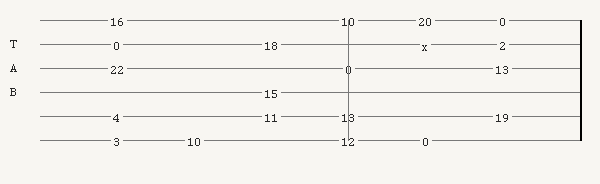0: (113, 38, 124, 50), (345, 62, 356, 74), (422, 134, 433, 146), (499, 14, 510, 26)
10: (187, 134, 205, 146), (341, 14, 359, 26)
11: (264, 110, 282, 122)
12: (341, 134, 359, 146)
13: (341, 110, 359, 122), (495, 62, 513, 74)
15: (264, 86, 282, 98)
16: (110, 14, 128, 26)
18: (264, 38, 282, 50)
19: (495, 110, 513, 122)
2: (499, 38, 510, 50)
20: (418, 14, 436, 26)
22: (110, 62, 128, 74)
3: (113, 134, 124, 146)
4: (113, 110, 124, 122)
x: (422, 39, 432, 49)
